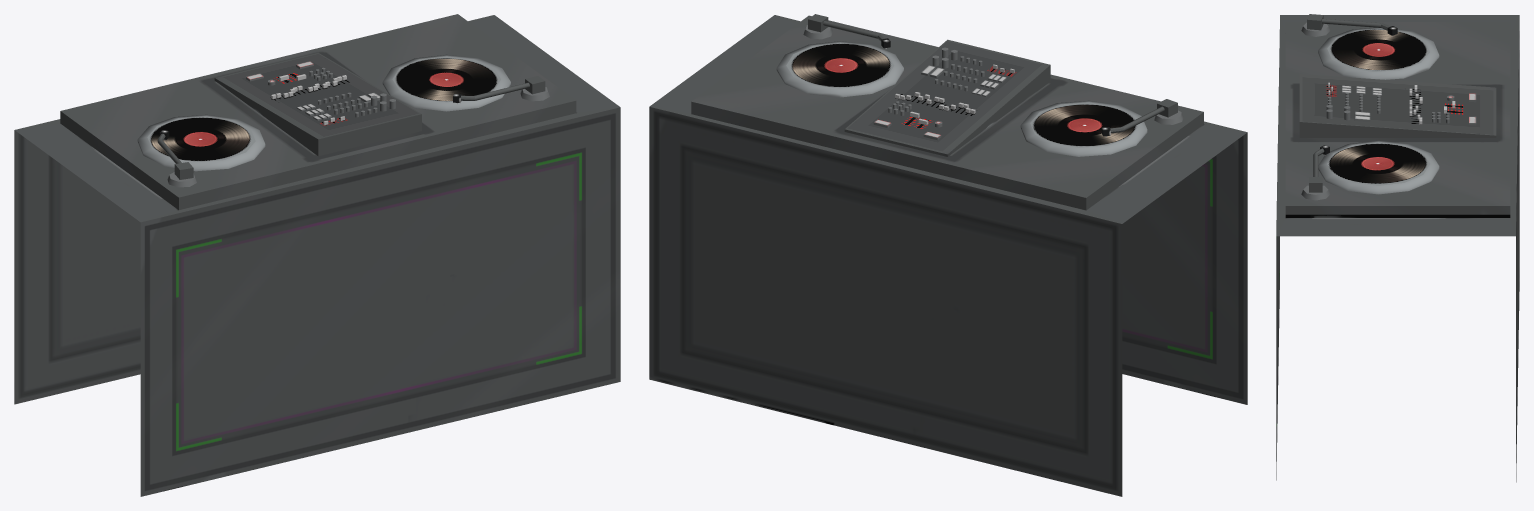
The model's file is DjTafel_object.FBX.
3 renders of one model, left to right at view 1: azimuth 30°, elevation 25°; view 2: azimuth 150°, elevation 25°; view 3: azimuth 270°, elevation 25°, orthographic. The views are drawn at different scales.
Parts seen in each view (by area): view 1: dj tafel; view 2: dj tafel; view 3: dj tafel.
Boxes of the visible parts, x1,y1,x2,y2 form: dj tafel: (14,14,620,496); dj tafel: (649,14,1247,496); dj tafel: (1276,14,1519,482).
Size of the model in its own units: 198 by 123 by 92.1.
